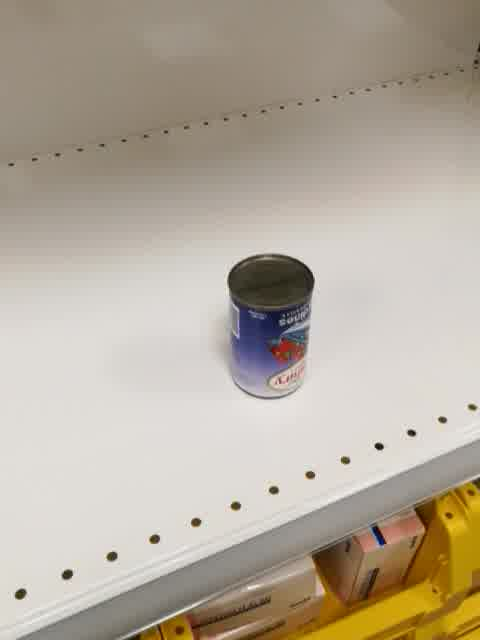sardine: (226, 254, 315, 400)
